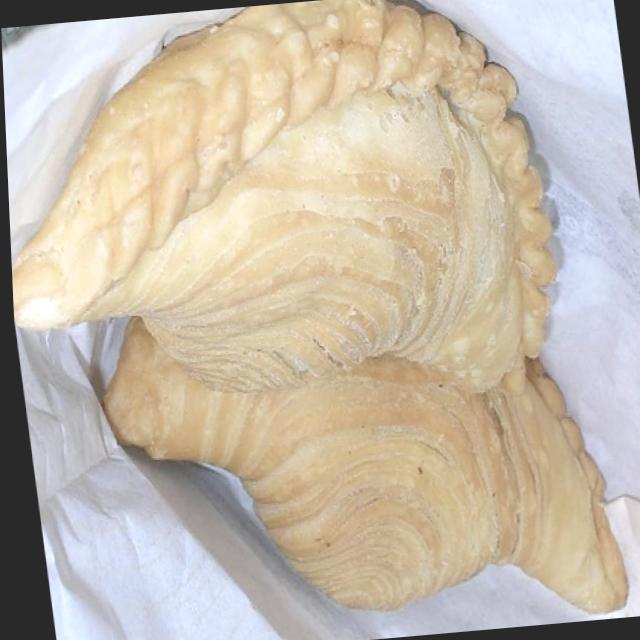炸货点心: (2, 6, 640, 640)
